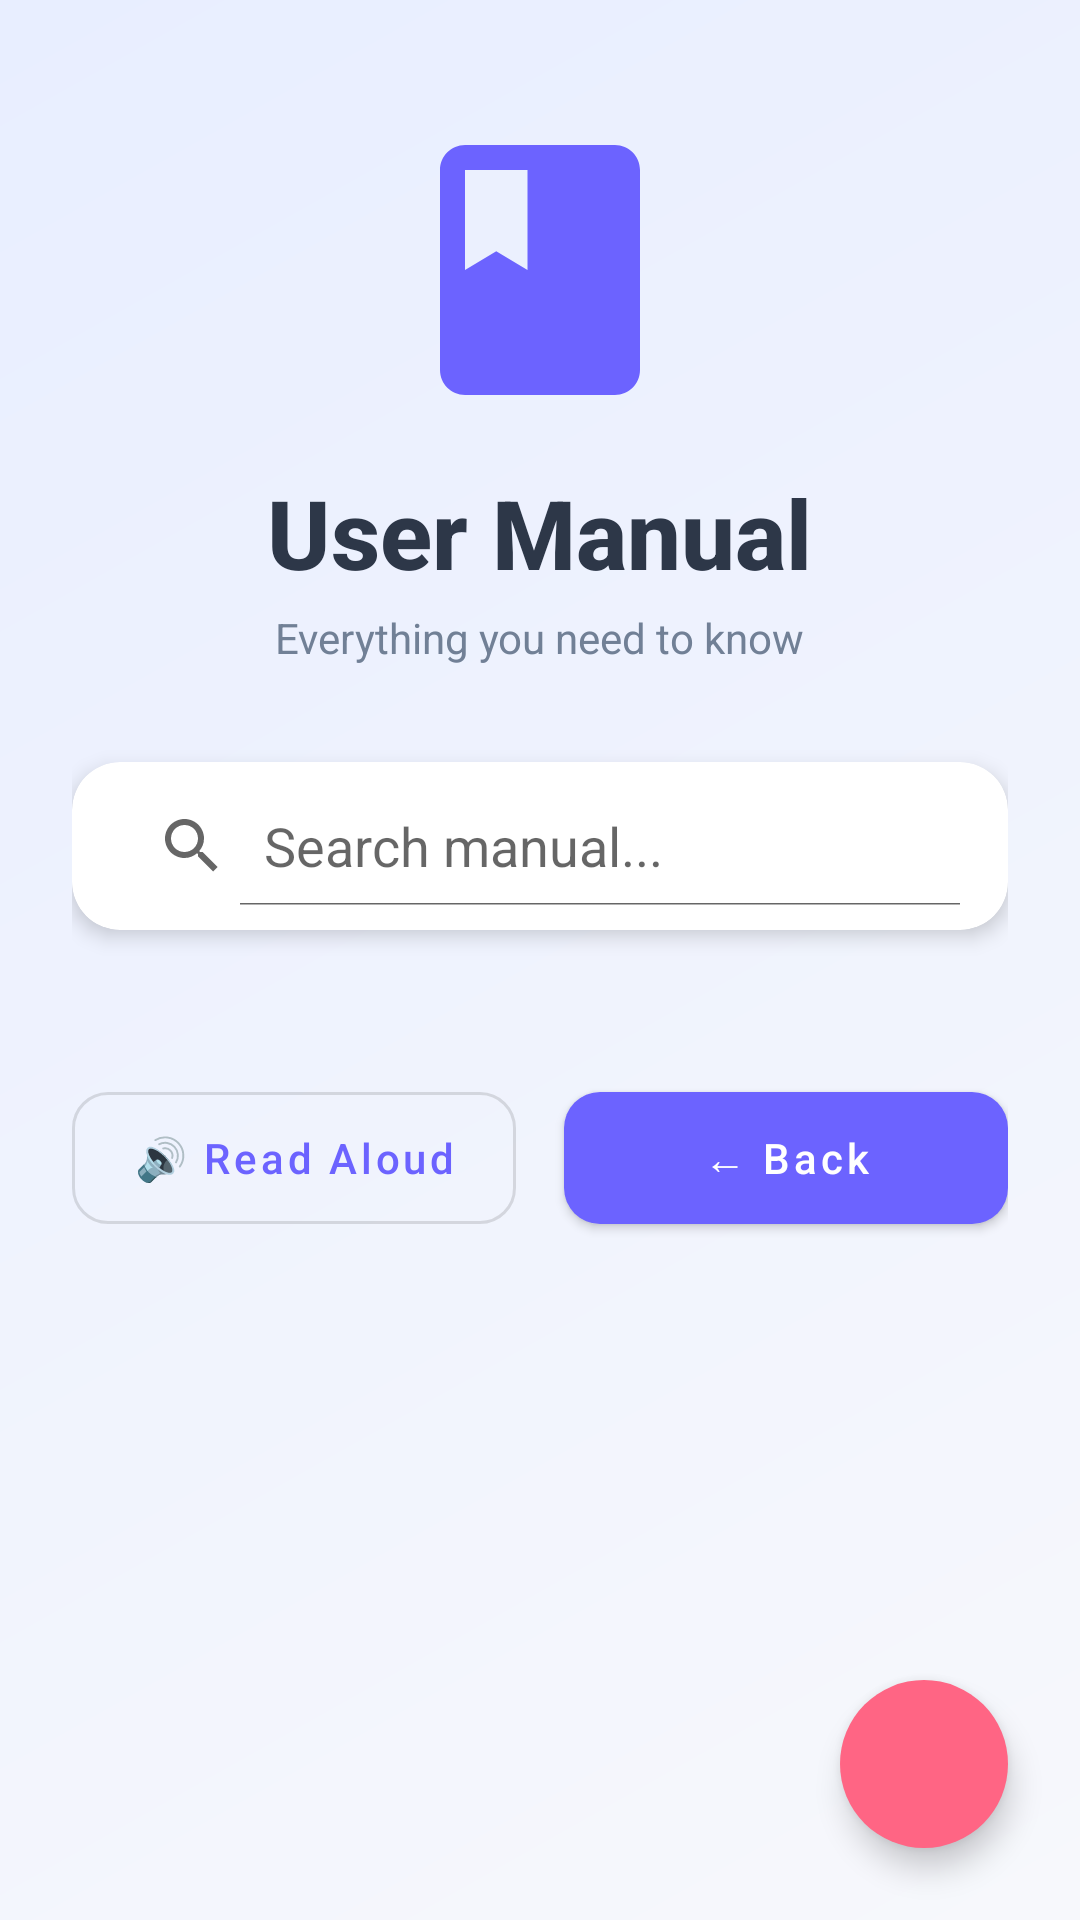

Icon click points for this 1080 × 1920 phone screenshot, format [x,y]:
book: [540,270]
